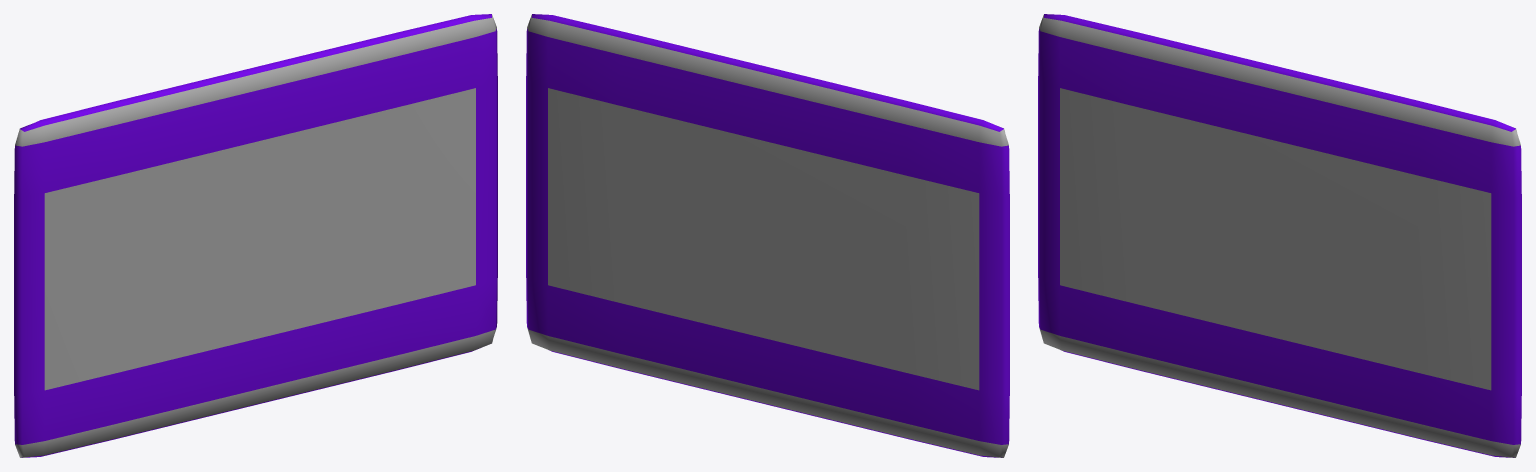
File: TarjetaAcceso.fbx
The picture shows the model from 3 angles, left to right: view 1: azimuth 30°, elevation 25°; view 2: azimuth 150°, elevation 25°; view 3: azimuth 330°, elevation 25°; orthographic projection.
Parts seen in each view (by area): view 1: Cube; view 2: Cube; view 3: Cube.
Boxes of the visible parts, x1,y1,x2,y2 form: Cube: (14, 14, 497, 457); Cube: (526, 14, 1009, 457); Cube: (1038, 14, 1521, 457).
Bounding box in the file's own units: 14.9 × 9.95 × 0.4939.
